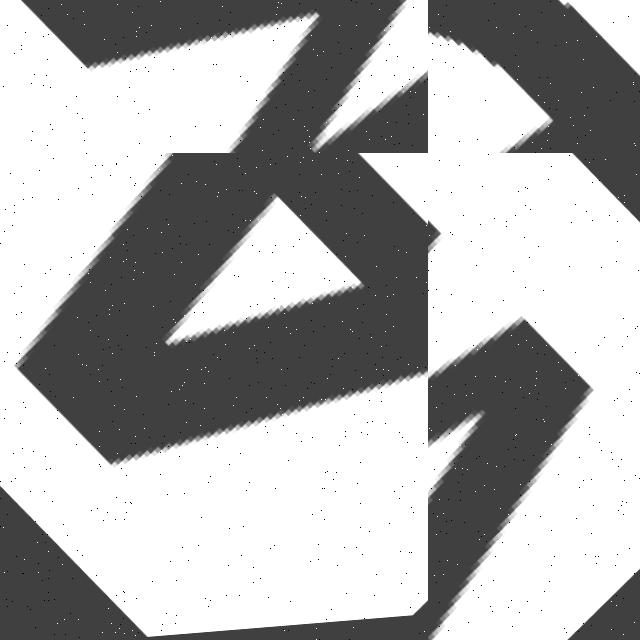A: (0, 153, 428, 640)
D: (428, 0, 640, 153)
M: (0, 0, 428, 153)
W: (428, 153, 640, 640)
